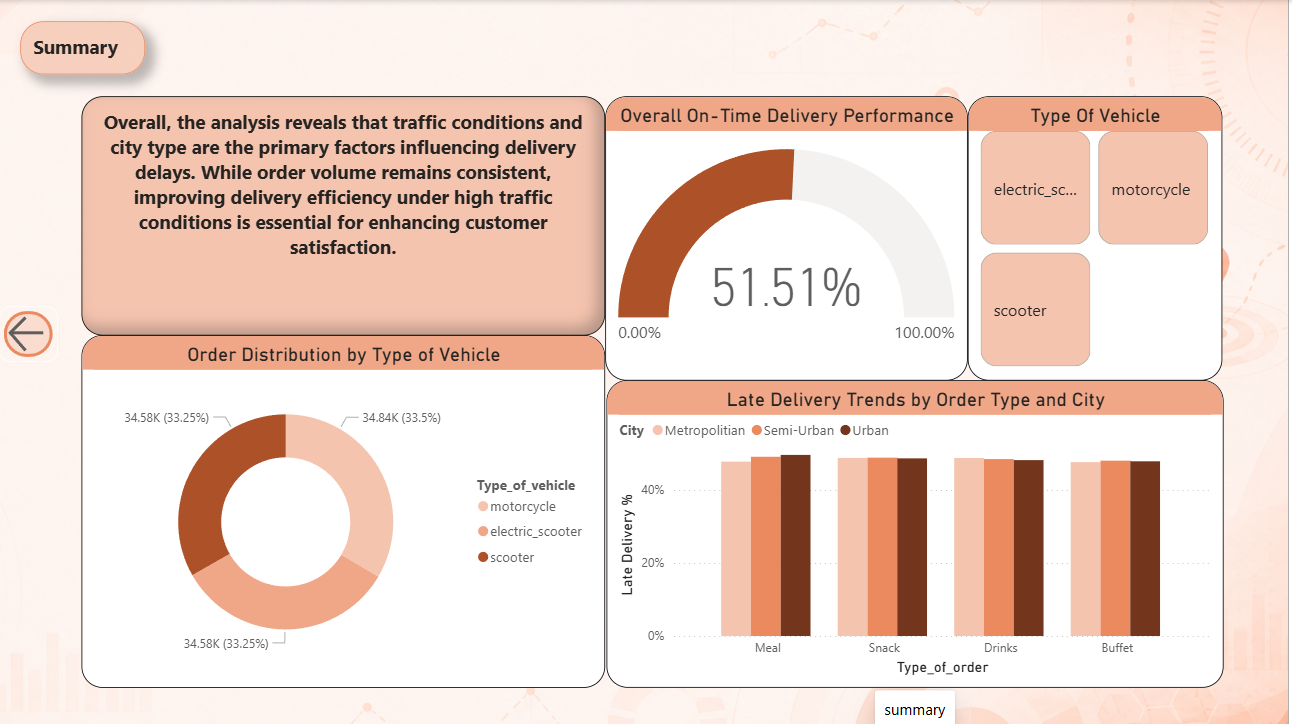

What the dashboard file says about the page in this screenshot:
{"tool":"powerbi","page":{"name":"summary","canvas":[1280,720],"ordinal":6},"visuals":[{"type":"gauge","title":"Overall On-Time Delivery Performance","fields":{"Y":["train.On-Time Delivery %"]},"box":[602.5,95,360,282.5],"z":0},{"type":"clusteredColumnChart","title":"Late Delivery Trends by Order Type and City","fields":{"Category":["train.Type_of_order"],"Y":["train.Late Delivery %"],"Series":["train.City"]},"box":[603,377.4,613,306],"z":1000},{"type":"donutChart","title":"Order Distribution by Type of Vehicle","fields":{"Category":["train.Type_of_vehicle"],"Y":["train.Total Orders"]},"box":[82.5,332.5,520,350],"z":2000},{"type":"actionButton","box":[0,304.3,58.5,55.5],"z":3000},{"type":"textbox","box":[20.5,20.5,124.3,53.1],"z":4000},{"type":"advancedSlicerVisual","title":"Type Of Vehicle","fields":{"Values":["train.Type_of_vehicle"]},"box":[962.5,95,252.5,282.5],"z":5000},{"type":"textbox","box":[82.5,95,520,237.5],"z":6000}]}

Visuals, with their boxes in screenshot pixels (x1, y1, x2, y2), scaled from the page's 1280x720 canvas onto the 1292x724 screenshot:
"Overall On-Time Delivery Performance" gauge: left=608, top=96, right=972, bottom=380
"Late Delivery Trends by Order Type and City" clusteredColumnChart: left=609, top=379, right=1227, bottom=687
"Order Distribution by Type of Vehicle" donutChart: left=83, top=334, right=608, bottom=686
actionButton: left=0, top=306, right=59, bottom=362
textbox: left=21, top=21, right=146, bottom=74
"Type Of Vehicle" advancedSlicerVisual: left=972, top=96, right=1226, bottom=380
textbox: left=83, top=96, right=608, bottom=334
